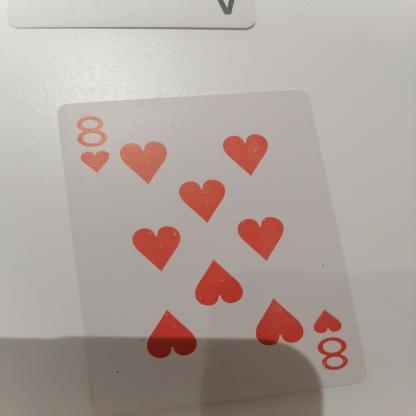8H: (297, 298, 362, 378), (74, 110, 124, 183)
